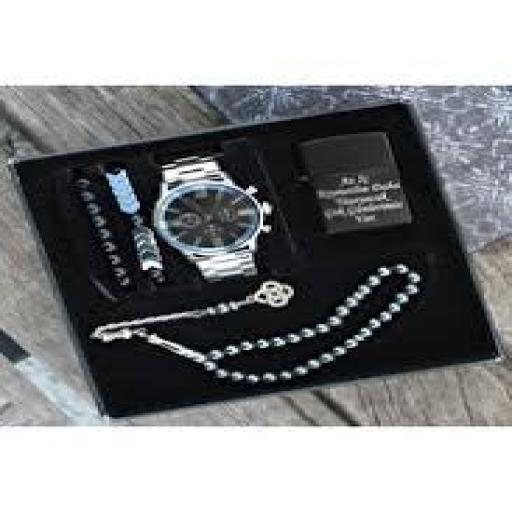KolSaati: (133, 141, 280, 282)
